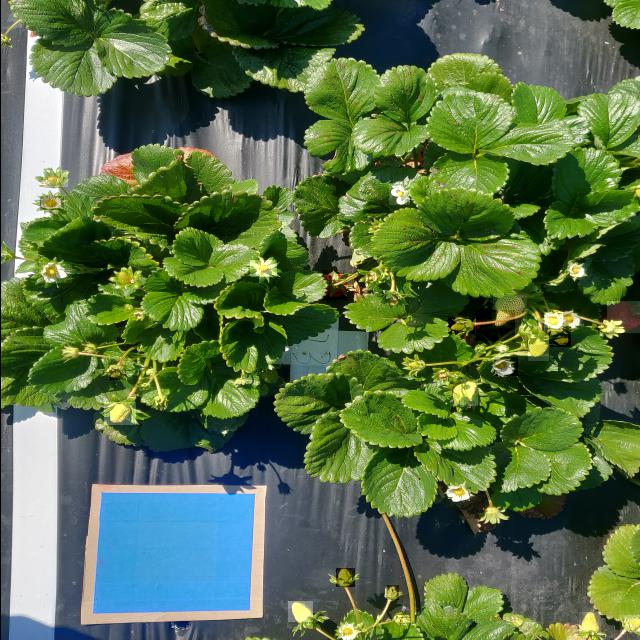Flower: (37, 262, 71, 284), (442, 485, 469, 504), (386, 183, 408, 206), (558, 309, 580, 332), (492, 357, 517, 377), (542, 312, 562, 332), (38, 196, 63, 211), (565, 263, 584, 279)
Green Strawberry: (491, 293, 526, 328), (102, 402, 135, 426), (526, 334, 548, 362), (286, 602, 312, 624), (110, 268, 136, 290), (577, 612, 600, 636), (248, 260, 276, 278), (459, 379, 477, 407), (548, 326, 570, 348), (446, 318, 474, 335), (41, 170, 67, 188), (618, 615, 639, 636), (544, 328, 568, 345), (334, 568, 354, 588), (401, 358, 425, 374), (448, 384, 463, 408), (107, 366, 125, 382), (384, 585, 398, 601)
Red Strawberry: (474, 310, 514, 342), (605, 301, 639, 335), (320, 270, 346, 301)
